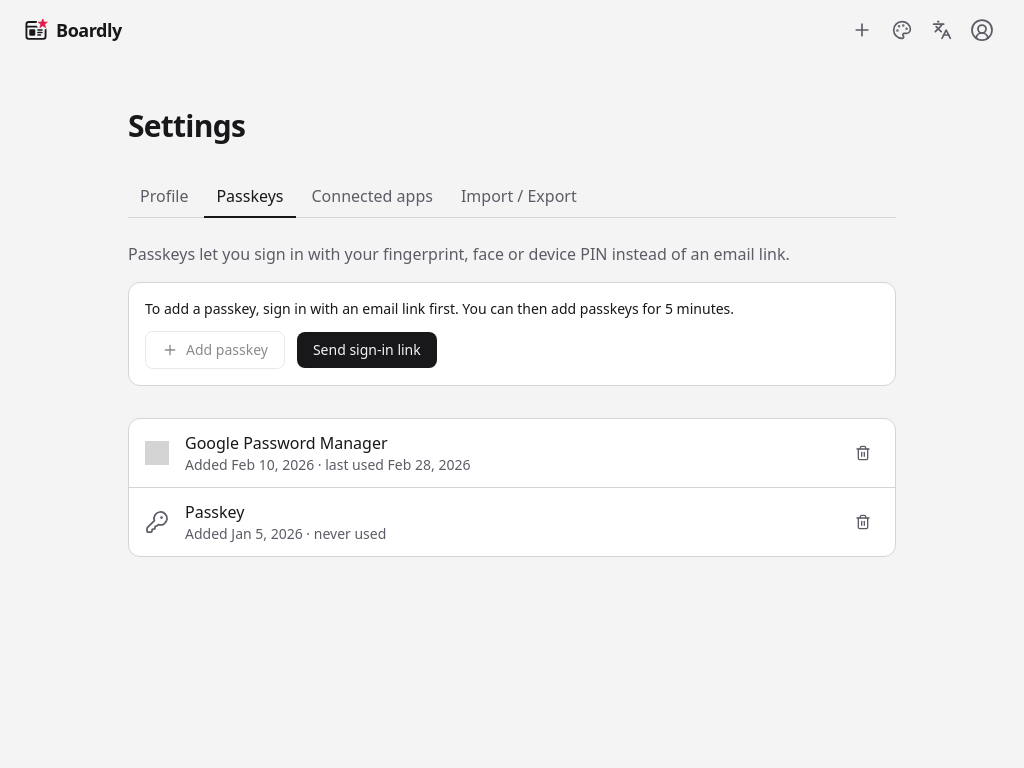
Test: deleting a passkey › removes the passkey after confirming
Click the button named "Delete passkey Google Password Manager": (863, 453) [847,437,879,469]
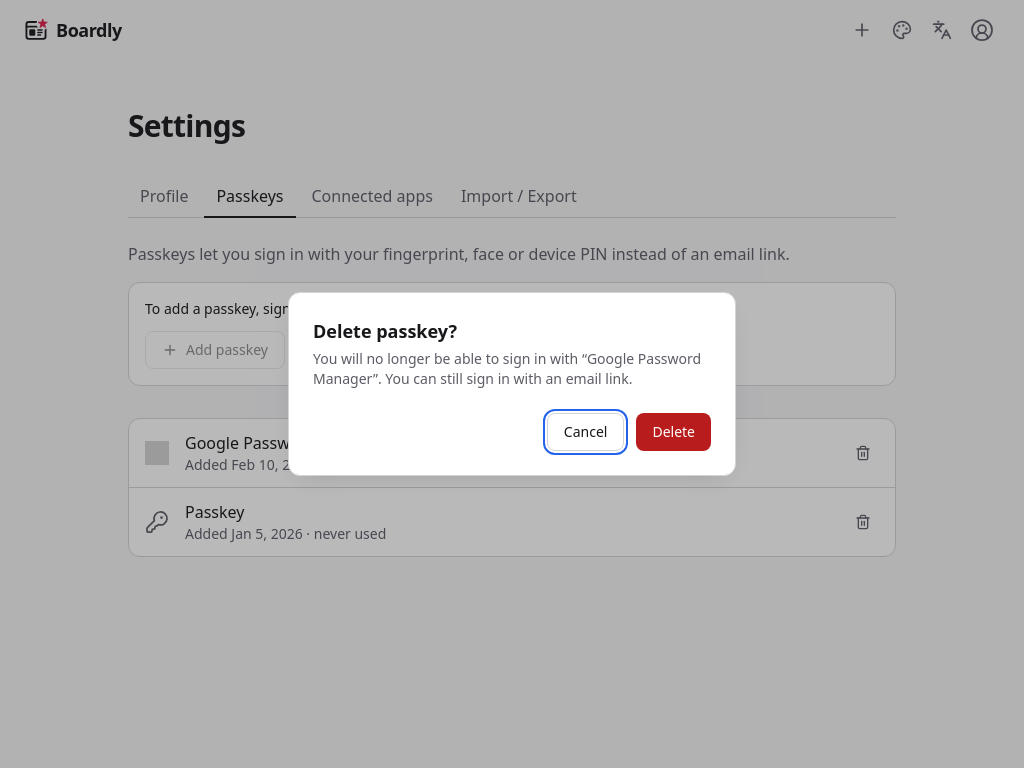
Now the dialog shows "You will no longer be able to sign in with “Google Password Manager”.", box [313,349,701,388]
Click the button "Delete": (674, 432) [636,413,711,451]
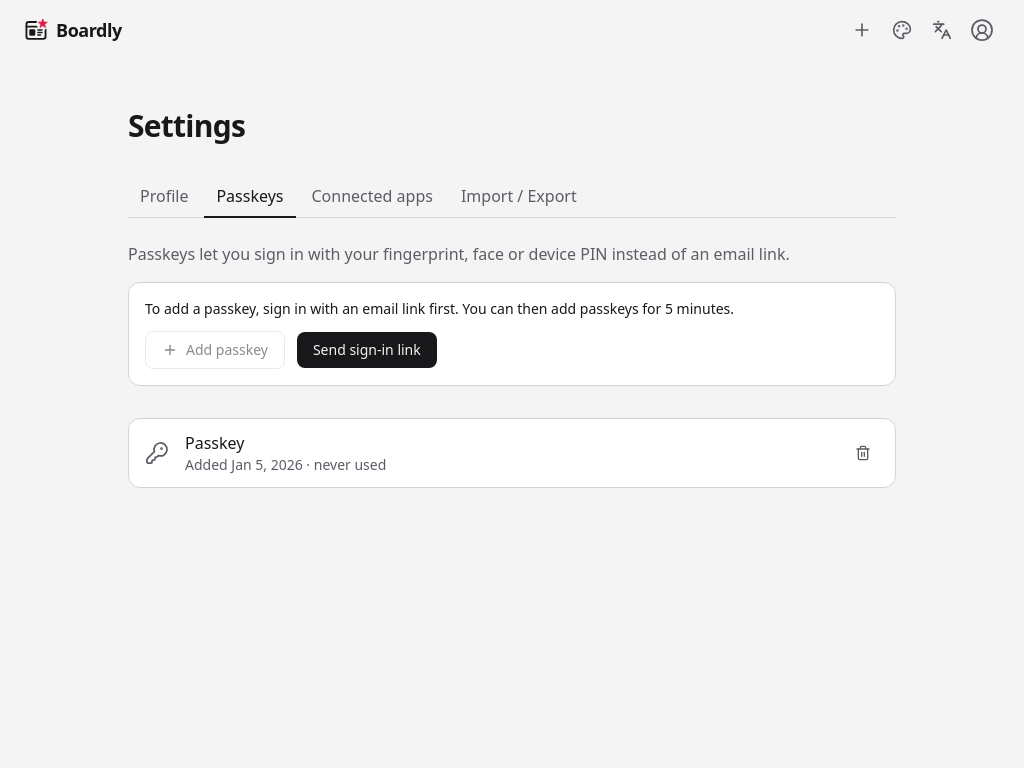
Expected: the text "Passkey" is shown, [185,432,244,454]
Now the text "Google Password Manager" is gone
